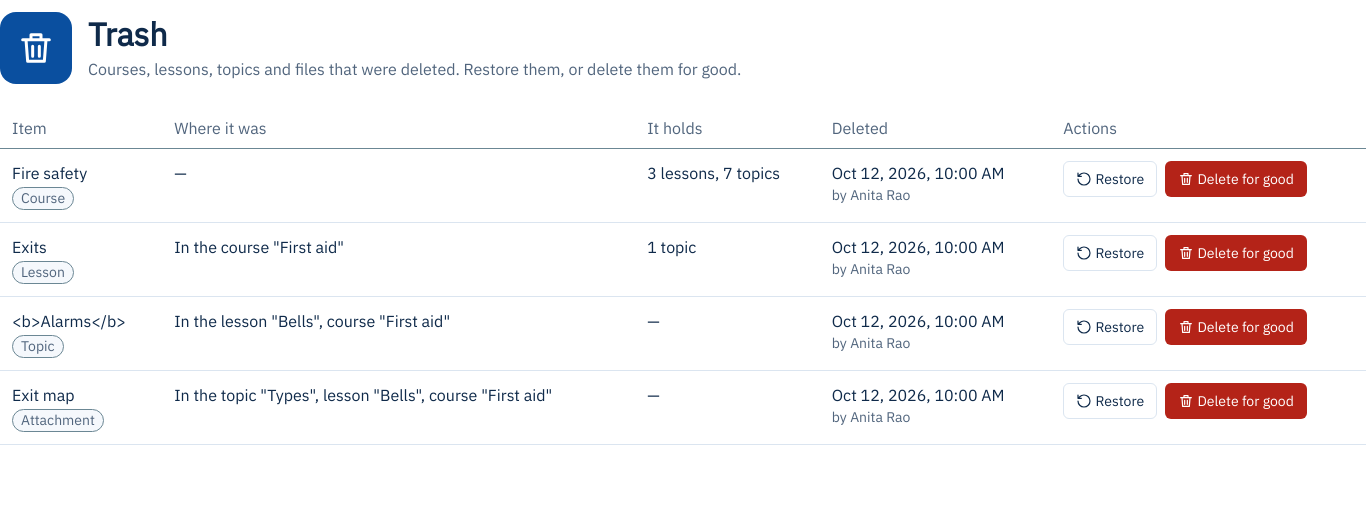
Test: TrashPage › says why an item cannot be restored yet
Click the button named "Restore <b>Alarms</b>" at [1110, 327], box top-left (1063, 309), bottom-right (1157, 345)
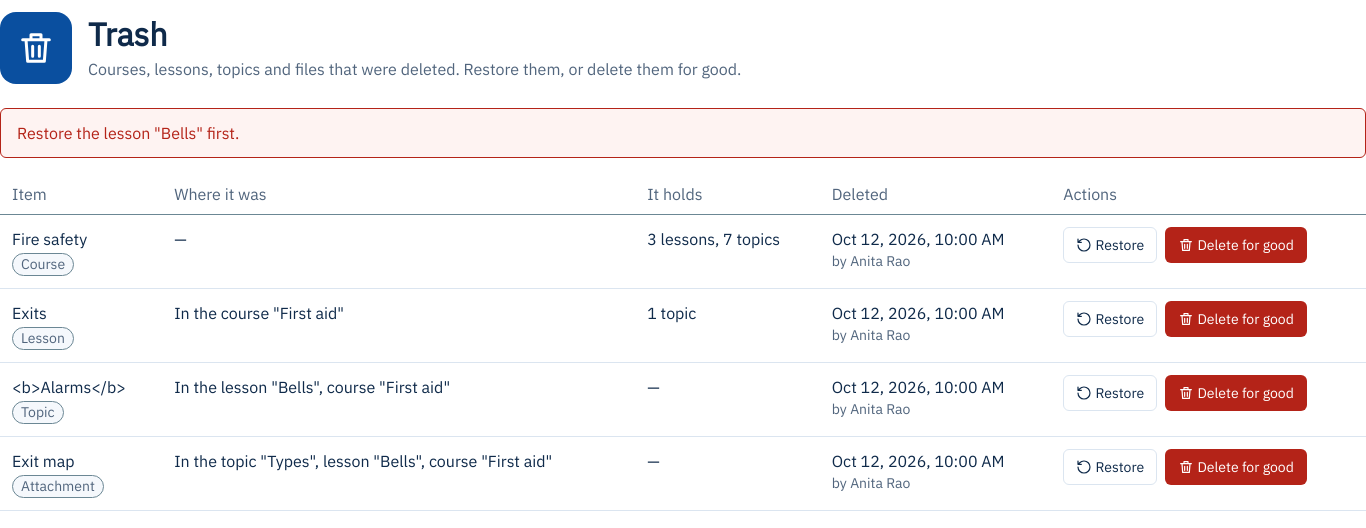
Expected: the button named "Restore <b>Alarms</b>" is shown, top-left (1063, 375), bottom-right (1157, 411)
Result: the message reads "Restore the lesson \"Bells\" first." at top-left (17, 123), bottom-right (239, 143)
